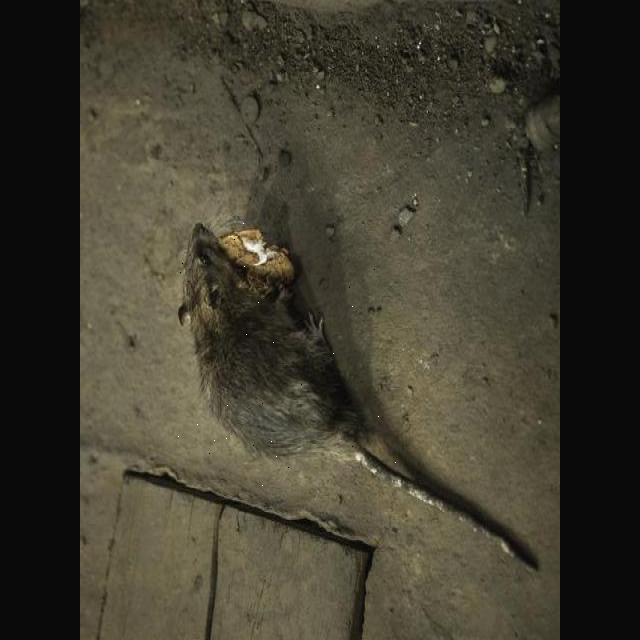rat: (178, 220, 398, 487)
